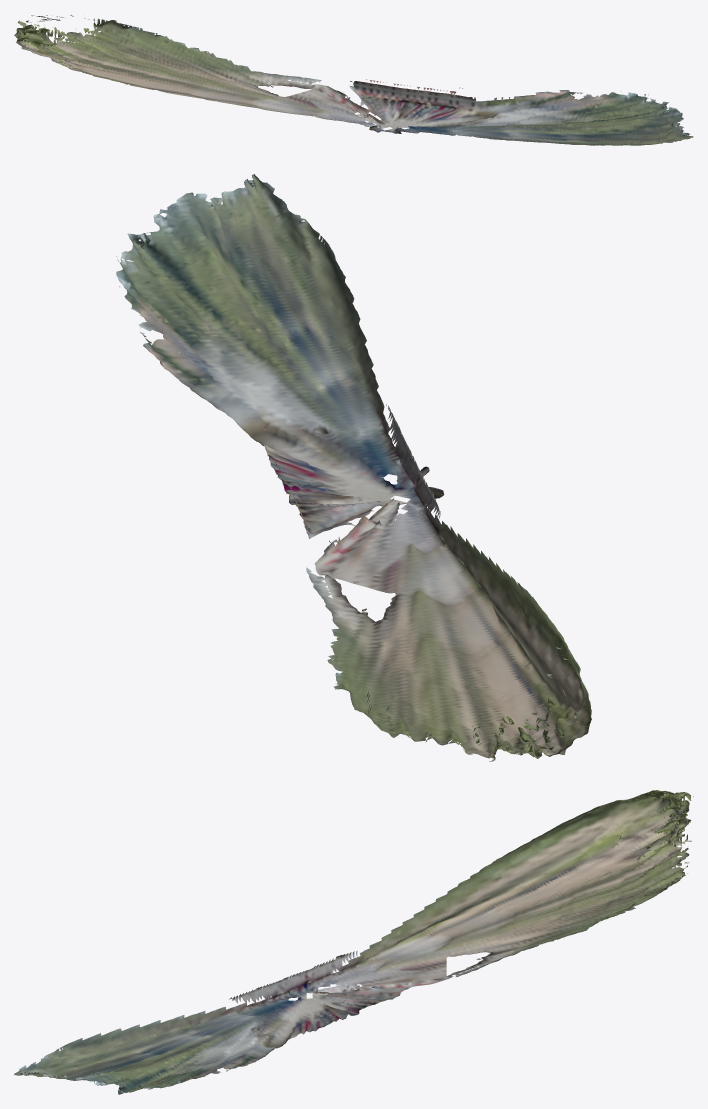
File: horses-lot_collider.glb
3 views of the same model, one above another, from view 1: azimuth 30°, elevation 25°; view 2: azimuth 150°, elevation 25°; view 3: azimuth 270°, elevation 25° (orthographic). The views are drawn at different scales.
Visible parts, largest first — view 1: world; view 2: world; view 3: world.
Boxes of the visible parts, x1,y1,x2,y2 form: world: (14,15,693,145); world: (116,174,591,761); world: (14,790,693,1094).
Size of the model in its own units: 303 by 38.67 by 318.
